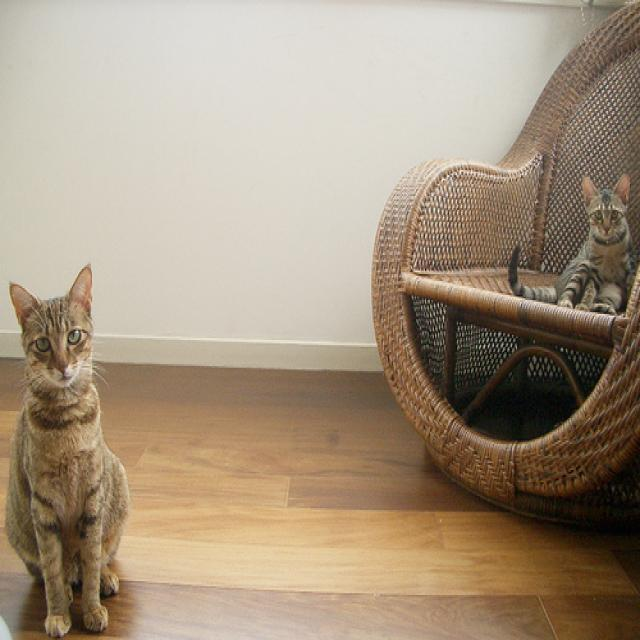cat: (5, 263, 130, 637), (508, 171, 637, 315)
